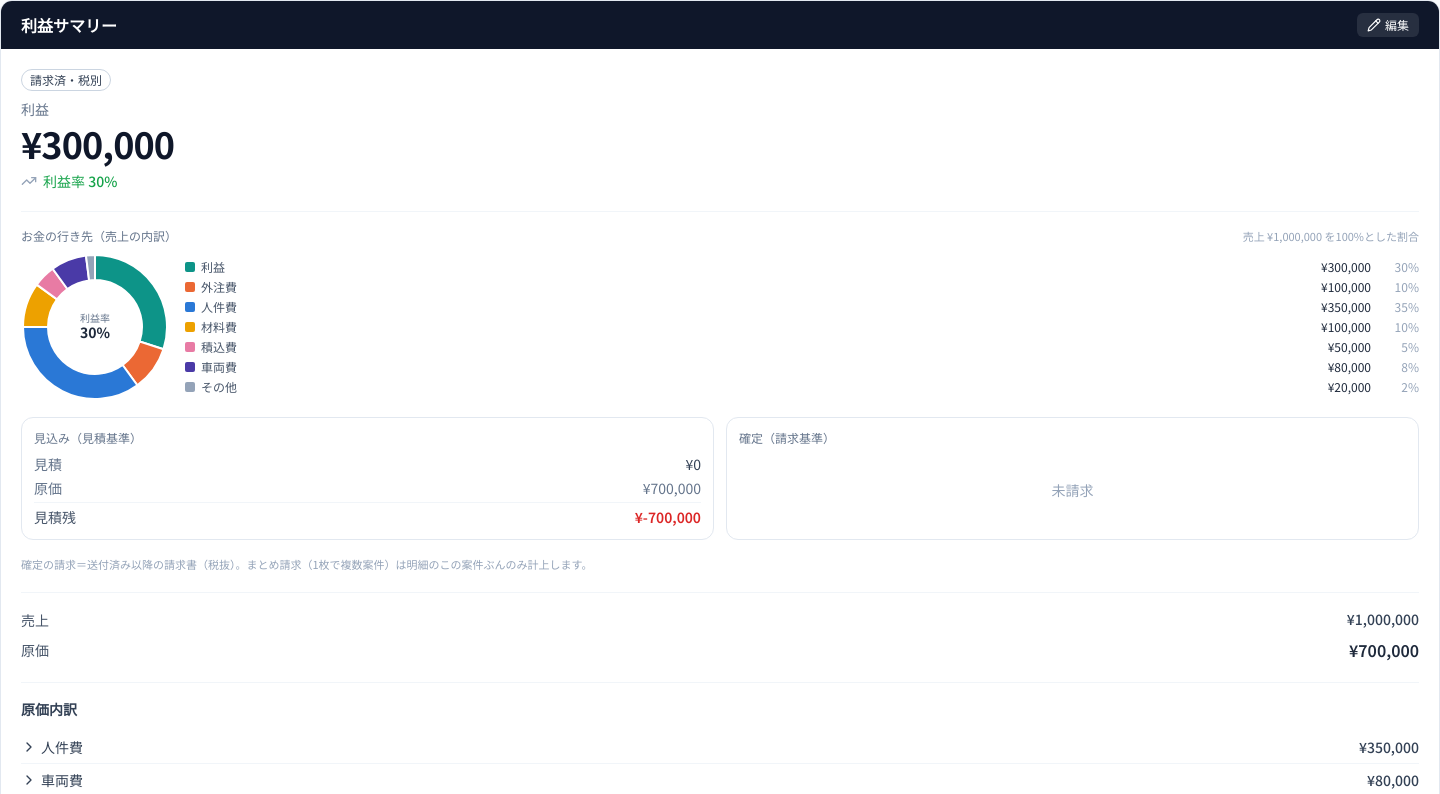
ProjectProfitDisplay › 外注費の手入力明細(摘要+金額)が編集モードで入力でき、協力業者の明細が無い案件でも入力欄が出る
The width and height of the screenshot is (1440, 794).
Expected: the heading "利益サマリー" is shown, [21,13,117,37]
Click the button "編集": coordinates (1388, 25) [1357,13,1419,37]
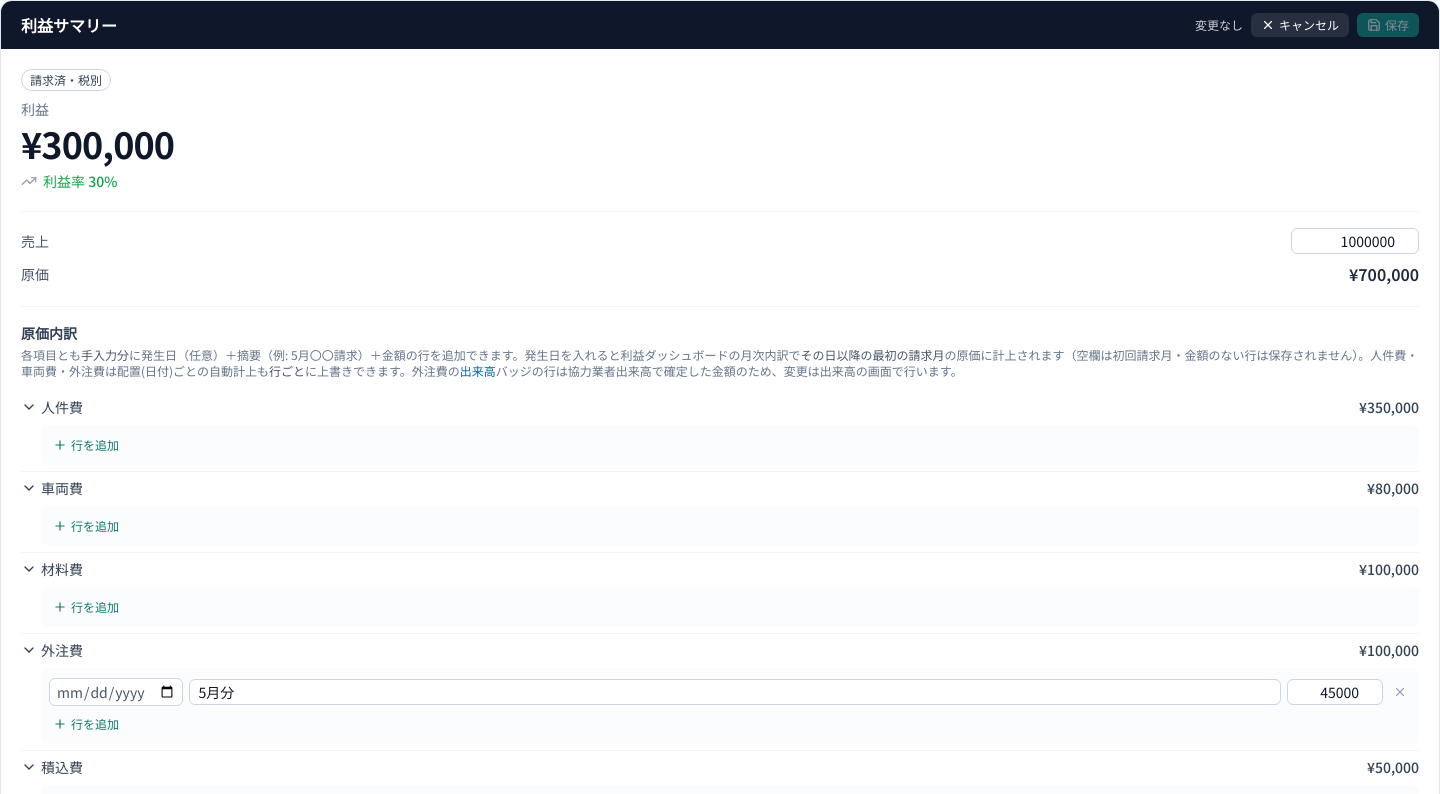
Expected: the number field showing "45000" below "¥80,000" is shown, [1287,679,1383,705]
Expected: the field showing "5月分" is shown, [189,679,1281,705]
